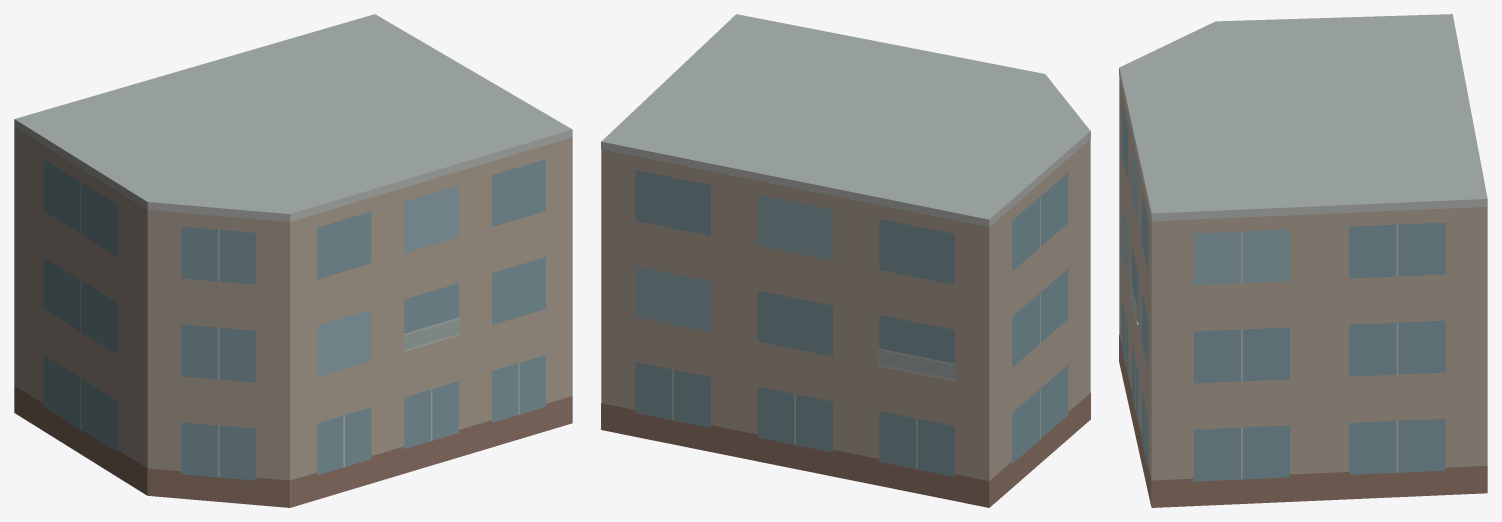
Rendered from survey-upis-32664190.glb.
3 renders of one model, left to right at view 1: azimuth 30°, elevation 25°; view 2: azimuth 150°, elevation 25°; view 3: azimuth 270°, elevation 25°, orthographic. The views are drawn at different scales.
Visible parts, largest first — view 1: survey-upis-32664190.tmp; view 2: survey-upis-32664190.tmp; view 3: survey-upis-32664190.tmp.
Boxes of the visible parts, x1,y1,x2,y2 form: survey-upis-32664190.tmp: (14, 14, 572, 507); survey-upis-32664190.tmp: (601, 14, 1090, 507); survey-upis-32664190.tmp: (1119, 14, 1487, 507).
Size of the model in its own units: 13.31 by 9.15 by 10.39.
